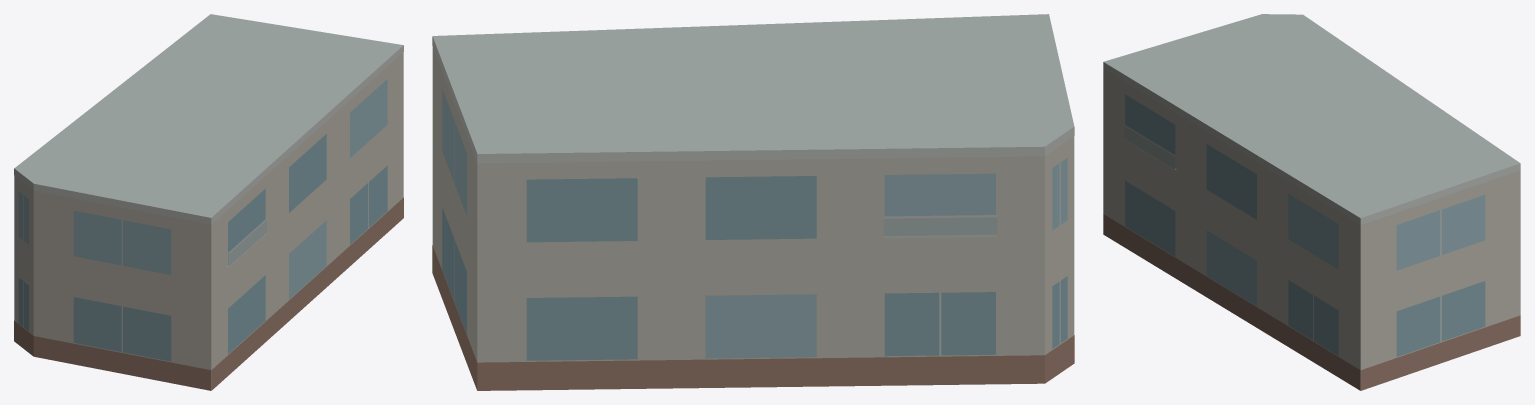
File: survey-upis-32802770.glb
3 views of the same model, side by side, from view 1: azimuth 30°, elevation 25°; view 2: azimuth 150°, elevation 25°; view 3: azimuth 270°, elevation 25° (orthographic). The views are drawn at different scales.
Parts seen in each view (by area): view 1: survey-upis-32802770.tmp; view 2: survey-upis-32802770.tmp; view 3: survey-upis-32802770.tmp.
Part boxes in pixels (x1=…): survey-upis-32802770.tmp: x1=14, y1=14, x2=403, y2=390; survey-upis-32802770.tmp: x1=432, y1=14, x2=1074, y2=390; survey-upis-32802770.tmp: x1=1103, y1=14, x2=1520, y2=390.
Bounding box in the file's own units: 15.49 × 6.1 × 13.38.
